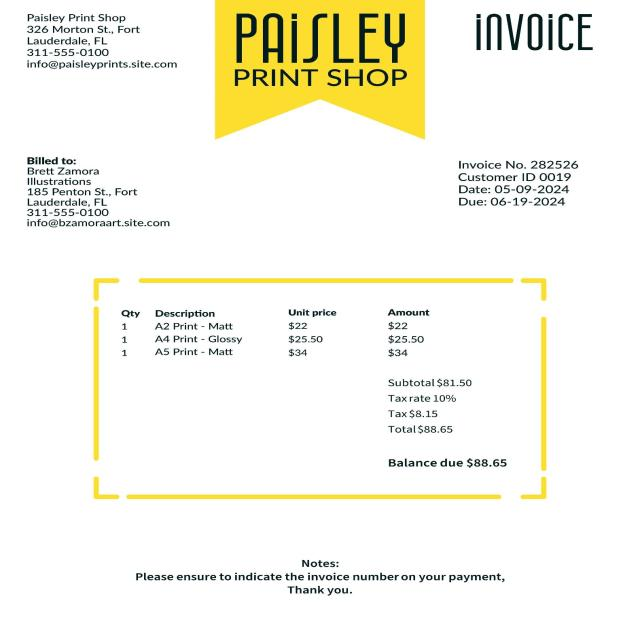paragraph: (208, 0, 431, 146), (114, 549, 520, 615), (16, 150, 187, 238), (378, 373, 512, 472), (23, 13, 181, 78), (456, 157, 590, 215), (466, 9, 604, 62)
table: (109, 296, 453, 365)
